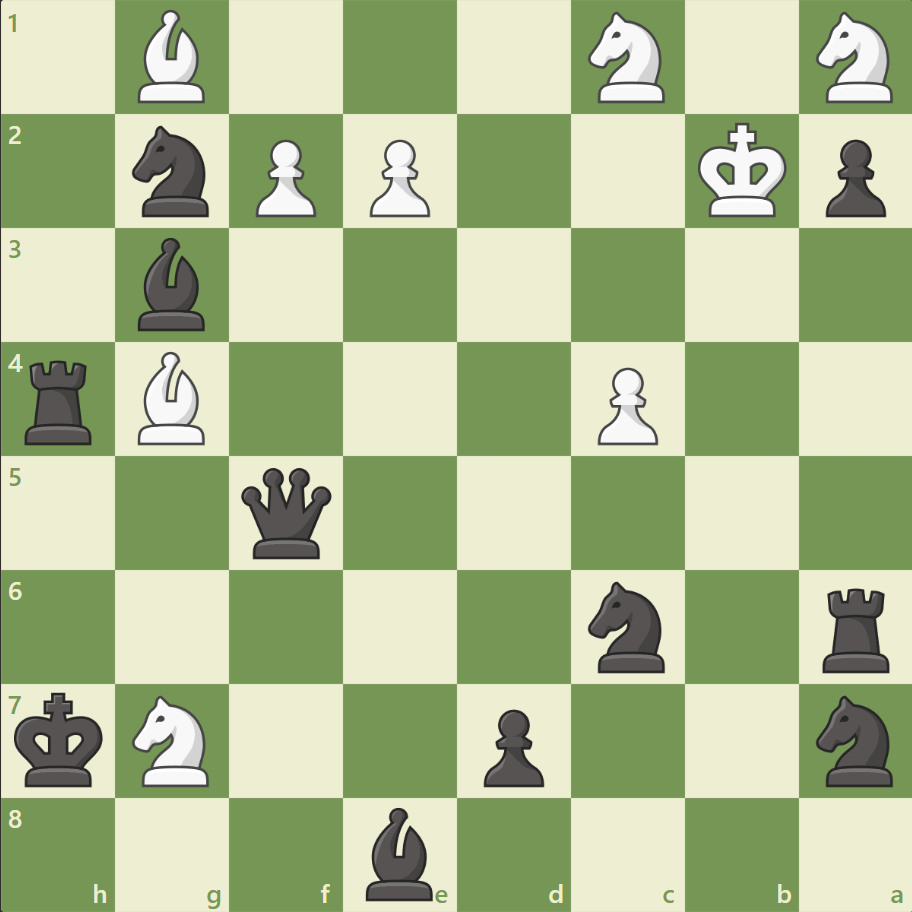B: (131, 6, 215, 109), (131, 347, 215, 449)
K: (692, 117, 792, 225)
N: (124, 688, 222, 791), (806, 7, 903, 110), (579, 7, 676, 110)
P: (247, 132, 322, 223), (588, 359, 662, 450), (361, 132, 435, 223)
b: (358, 801, 442, 904), (131, 233, 215, 336)
k: (11, 685, 111, 793)
n: (124, 121, 222, 223), (806, 688, 903, 791), (579, 575, 676, 677)
p: (474, 700, 549, 791), (815, 132, 889, 223)
q: (237, 463, 336, 562)
r: (814, 579, 897, 676), (19, 352, 102, 449)
